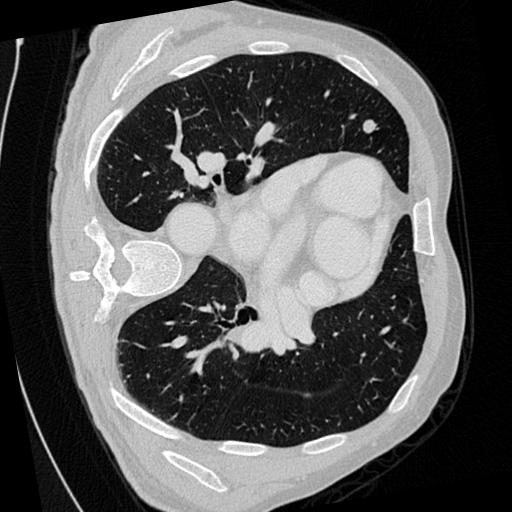nodule: (359, 117, 381, 139)
